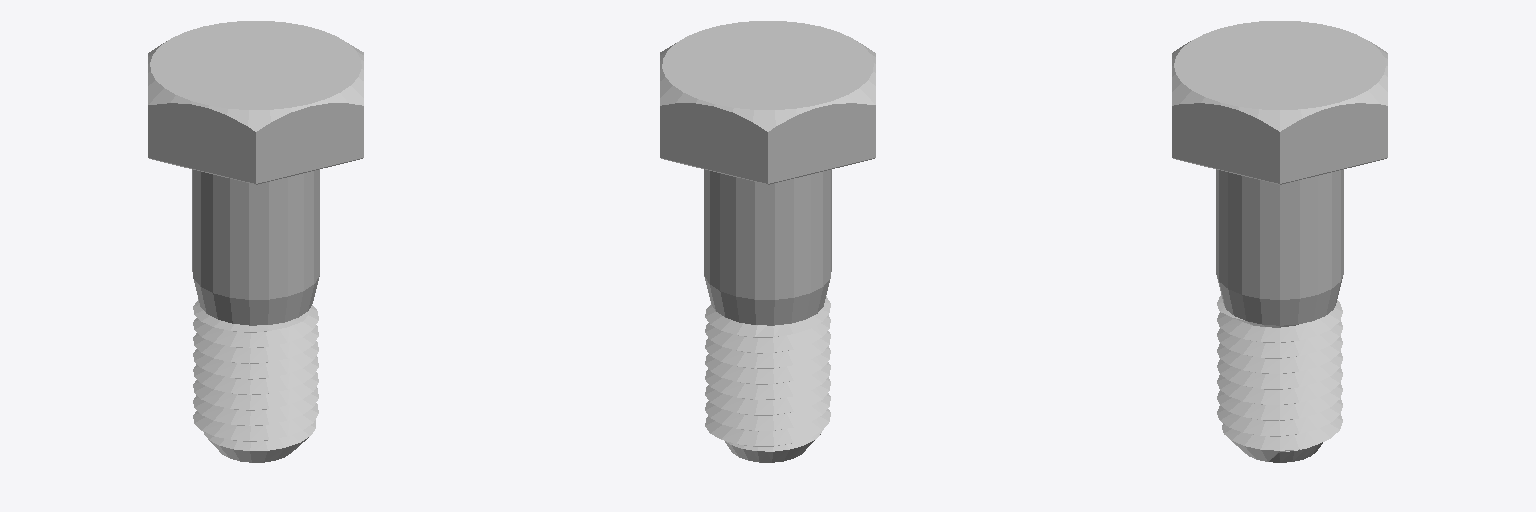
Rendered from screw.obj.
3 views of the same model, side by side, from view 1: azimuth 30°, elevation 25°; view 2: azimuth 150°, elevation 25°; view 3: azimuth 270°, elevation 25° (orthographic).
Bounding box in the file's own units: 5.84 × 9.84 × 5.05.